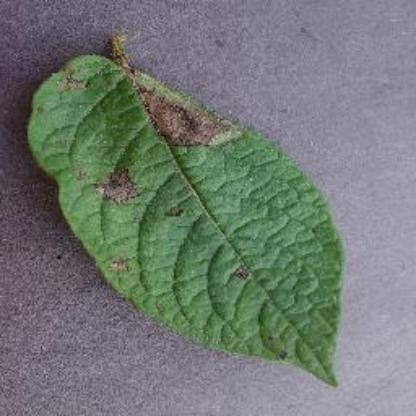Late-Blight: (16, 31, 346, 389)
